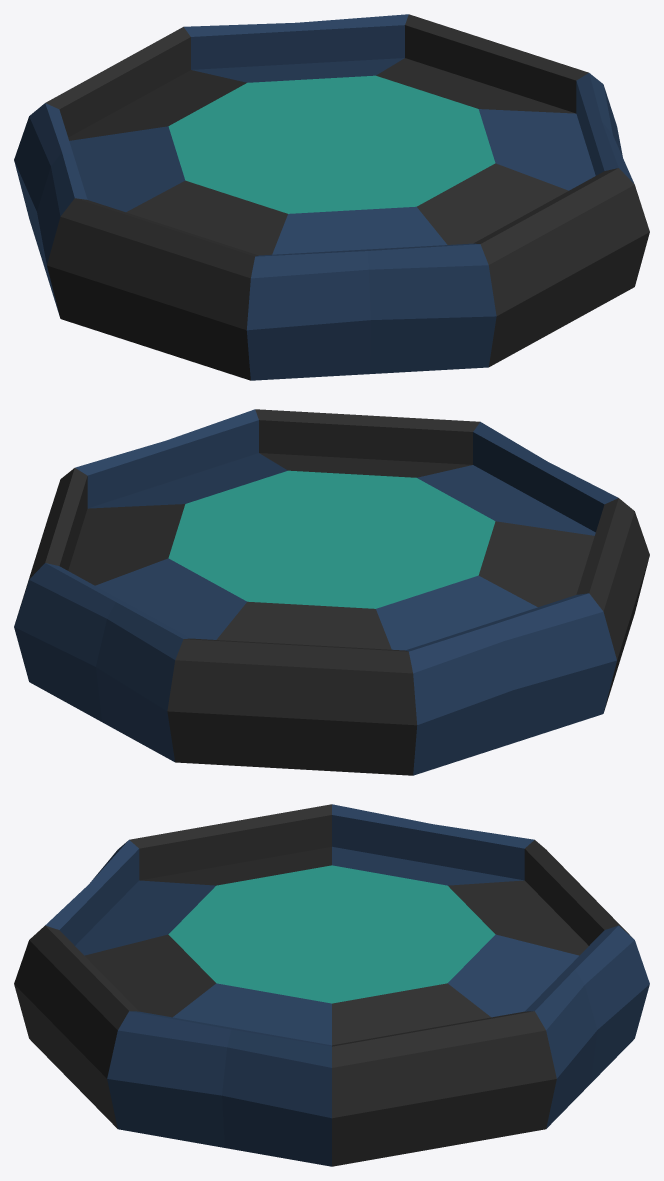
Rendered from botBase.obj.
3 renders of one model, top to bottom at view 1: azimuth 30°, elevation 25°; view 2: azimuth 150°, elevation 25°; view 3: azimuth 270°, elevation 25°, orthographic. The views are drawn at different scales.
Visible parts, largest first — view 1: Cylinder; view 2: Cylinder; view 3: Cylinder.
Part boxes in pixels (<box>): Cylinder: <box>14,14,649,380</box>; Cylinder: <box>14,409,649,775</box>; Cylinder: <box>14,804,649,1166</box>.
Size of the model in its own units: 10.5 by 2.06 by 10.5.
